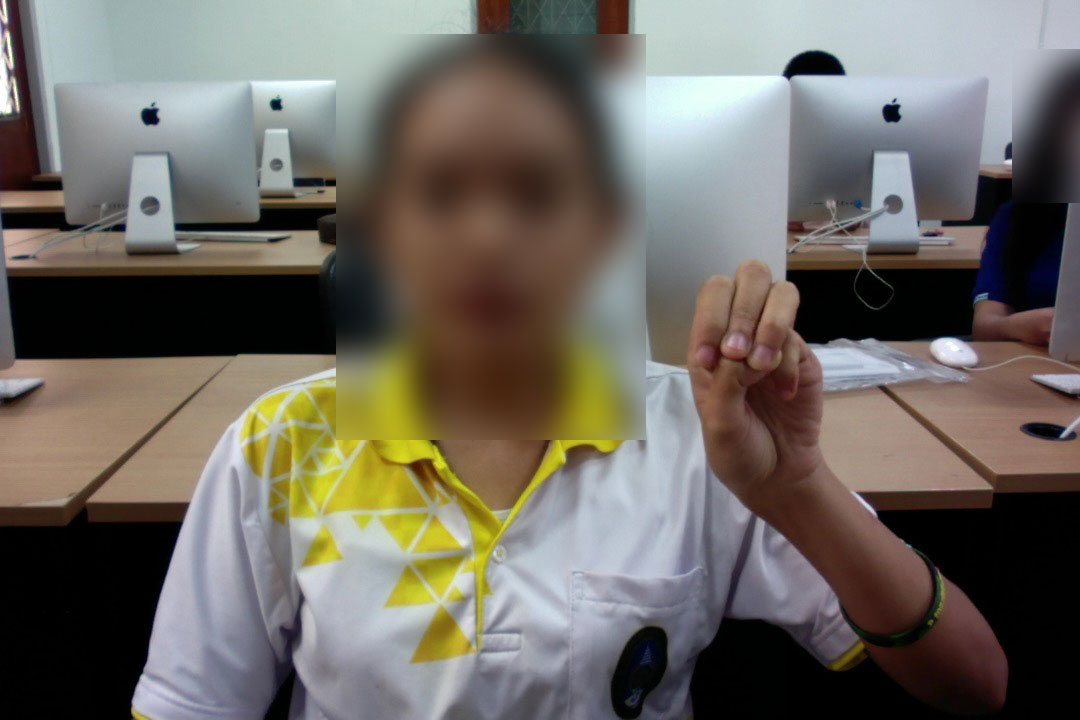mor: (677, 255, 833, 507)
